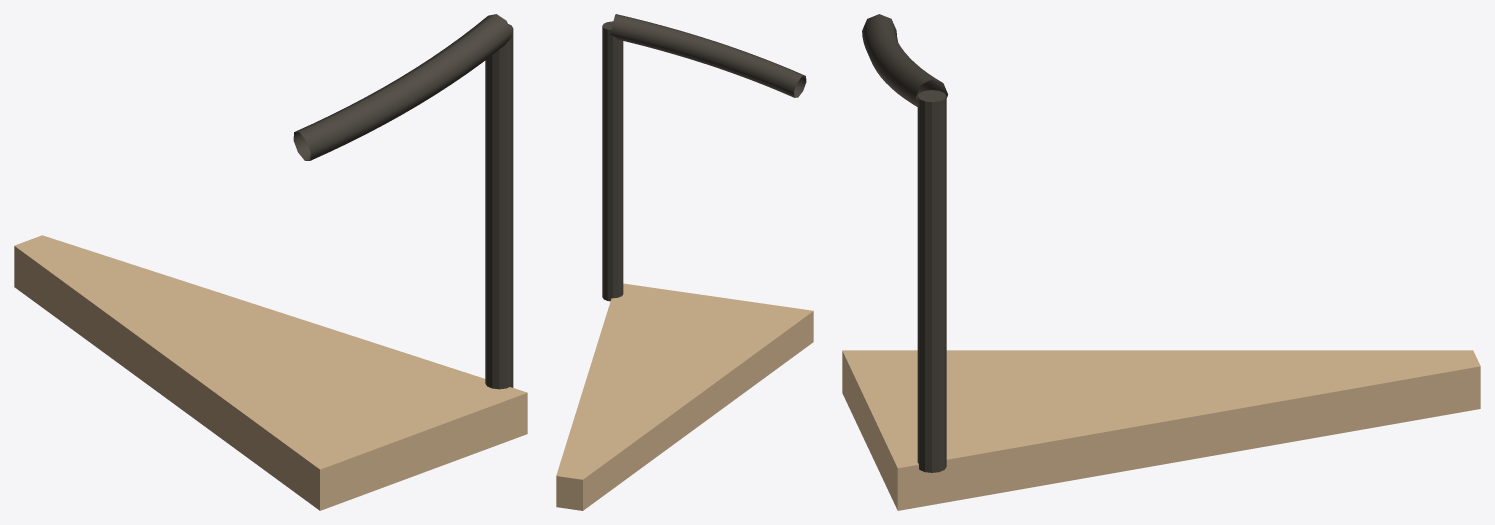
File: spiral-tread.glb
3 renders of one model, left to right at view 1: azimuth 30°, elevation 25°; view 2: azimuth 150°, elevation 25°; view 3: azimuth 270°, elevation 25°, orthographic. The views are drawn at different scales.
Parts seen in each view (by area): view 1: Spiral stone tread (22.5 degrees, radius 1.77, top 0), Wrought iron outer post, Curved wrought iron handrail; view 2: Spiral stone tread (22.5 degrees, radius 1.77, top 0), Wrought iron outer post, Curved wrought iron handrail; view 3: Spiral stone tread (22.5 degrees, radius 1.77, top 0), Wrought iron outer post, Curved wrought iron handrail.
Part boxes in pixels (box(x1,y1,x2,y2)): Spiral stone tread (22.5 degrees, radius 1.77, top 0): box(14, 235, 527, 510); Wrought iron outer post: box(485, 24, 513, 389); Curved wrought iron handrail: box(293, 14, 512, 160); Spiral stone tread (22.5 degrees, radius 1.77, top 0): box(556, 283, 813, 510); Wrought iron outer post: box(602, 21, 623, 301); Curved wrought iron handrail: box(610, 14, 806, 97); Spiral stone tread (22.5 degrees, radius 1.77, top 0): box(842, 350, 1480, 510); Wrought iron outer post: box(917, 90, 946, 472); Curved wrought iron handrail: box(862, 14, 947, 106).
Size of the model in its own units: 0.6857 by 1.14 by 1.55.
